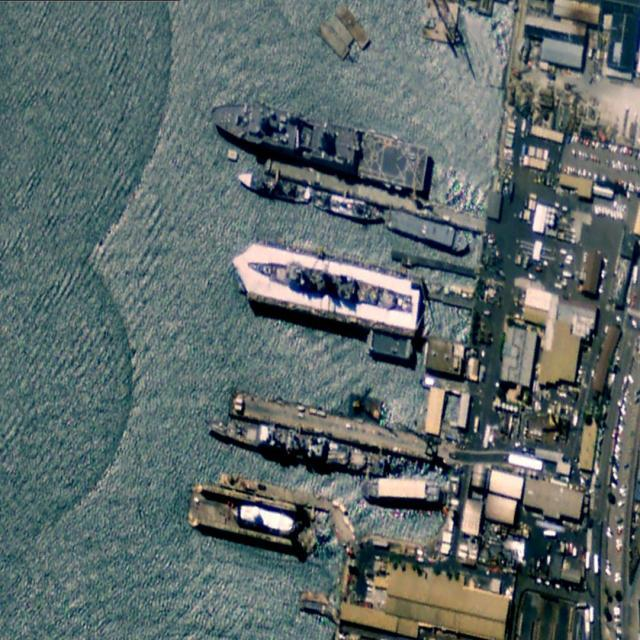Auxiliary Ships: (206, 90, 431, 191)
Other Ship: (388, 210, 471, 254), (237, 166, 314, 207), (312, 187, 385, 229), (362, 478, 440, 501)
Other Warship: (201, 407, 388, 480), (244, 251, 413, 317)
